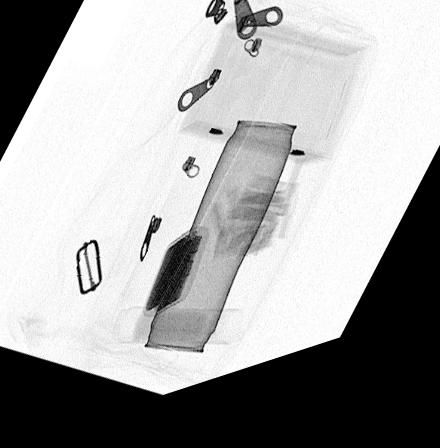Powerbank: (139, 237, 208, 326)
